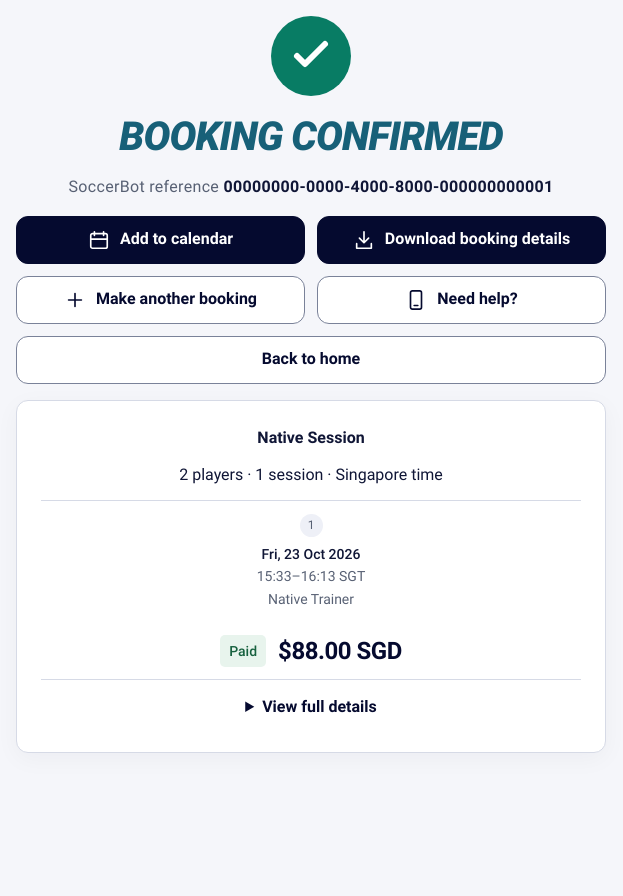
Scenario: verified live receipt uses demo sections and refuses exports after access is revoked
Click the heading "View full details" at {"x": 320, "y": 706}, box [262,696,377,716]
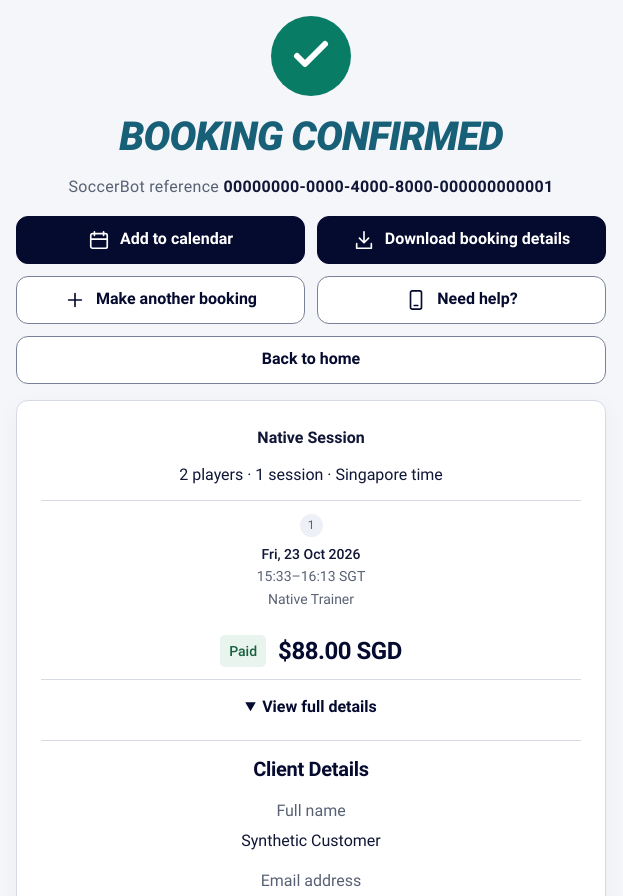
Expected: the element named "Booking summary" shows "$88.00 SGD", [41,425,581,667]
Result: the heading "Client Details" is shown at [253,757,369,781]
Click the button "Add to calendar" at {"x": 160, "y": 240}, box [16,216,305,264]
(page scrolled)
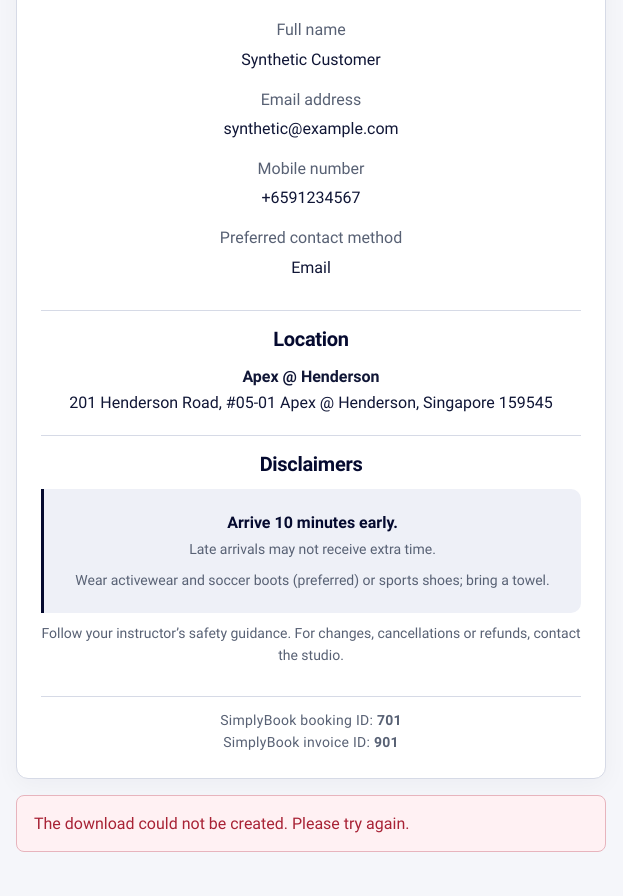
Result: the message shows "download could not be created" at [34,814,409,833]
